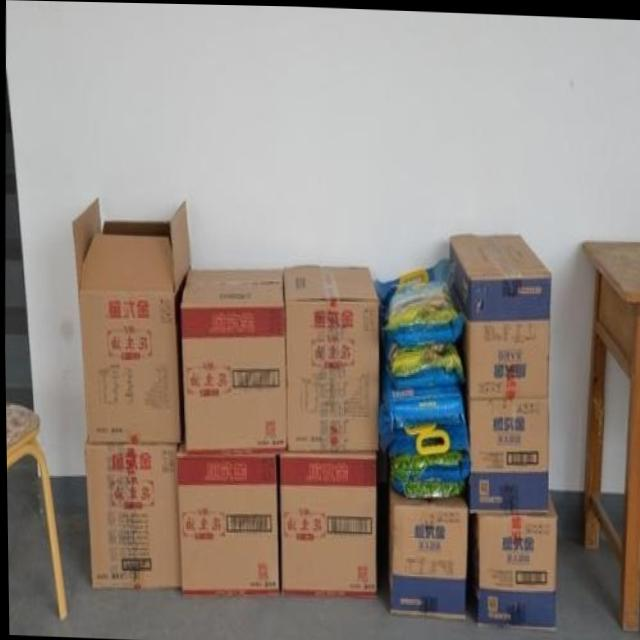box: (70, 195, 190, 443), (179, 267, 286, 453), (282, 265, 378, 449), (447, 231, 551, 398), (174, 434, 277, 594), (277, 450, 376, 598), (82, 442, 178, 588), (468, 489, 558, 629), (388, 485, 467, 620), (466, 395, 547, 513)
